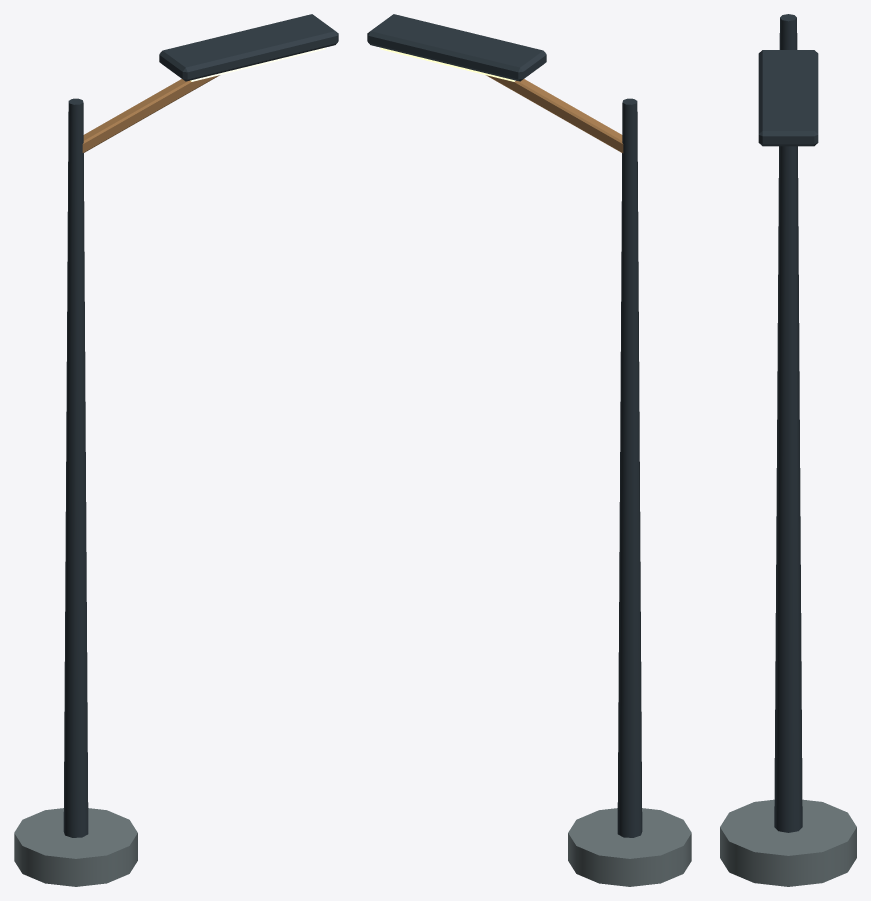
The model's file is street-lamp.lod0.glb.
3 renders of one model, left to right at view 1: azimuth 30°, elevation 25°; view 2: azimuth 150°, elevation 25°; view 3: azimuth 270°, elevation 25°, orthographic. The views are drawn at different scales.
Visible parts, largest first — view 1: structure; view 2: structure; view 3: structure.
Part boxes in pixels (x1,y1,x2,y2): structure: (14, 14, 338, 886); structure: (367, 14, 691, 886); structure: (720, 14, 856, 886).
Size of the model in its own units: 2.73 by 6.66 by 0.96.
